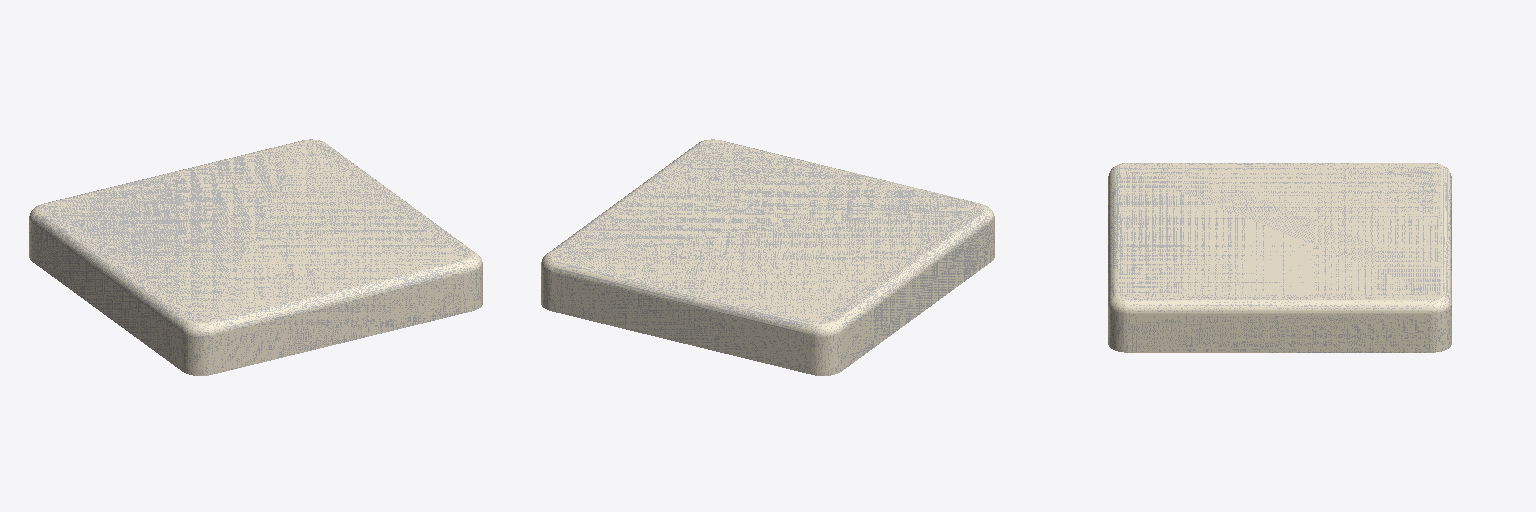
File: original-52.obj
3 views of the same model, side by side, from view 1: azimuth 30°, elevation 25°; view 2: azimuth 150°, elevation 25°; view 3: azimuth 270°, elevation 25° (orthographic).
Parts seen in each view (by area): view 1: Component_2_10/Component_2/mesh1/mesh1-geometry#mesh1-geometry; view 2: Component_2_10/Component_2/mesh1/mesh1-geometry#mesh1-geometry; view 3: Component_2_10/Component_2/mesh1/mesh1-geometry#mesh1-geometry.
Boxes of the visible parts, x1=… form: Component_2_10/Component_2/mesh1/mesh1-geometry#mesh1-geometry: x1=29, y1=139, x2=482, y2=375; Component_2_10/Component_2/mesh1/mesh1-geometry#mesh1-geometry: x1=541, y1=139, x2=994, y2=375; Component_2_10/Component_2/mesh1/mesh1-geometry#mesh1-geometry: x1=1108, y1=163, x2=1451, y2=352.
Bounding box in the file's own units: 0.0677 × 0.0106 × 0.0677.